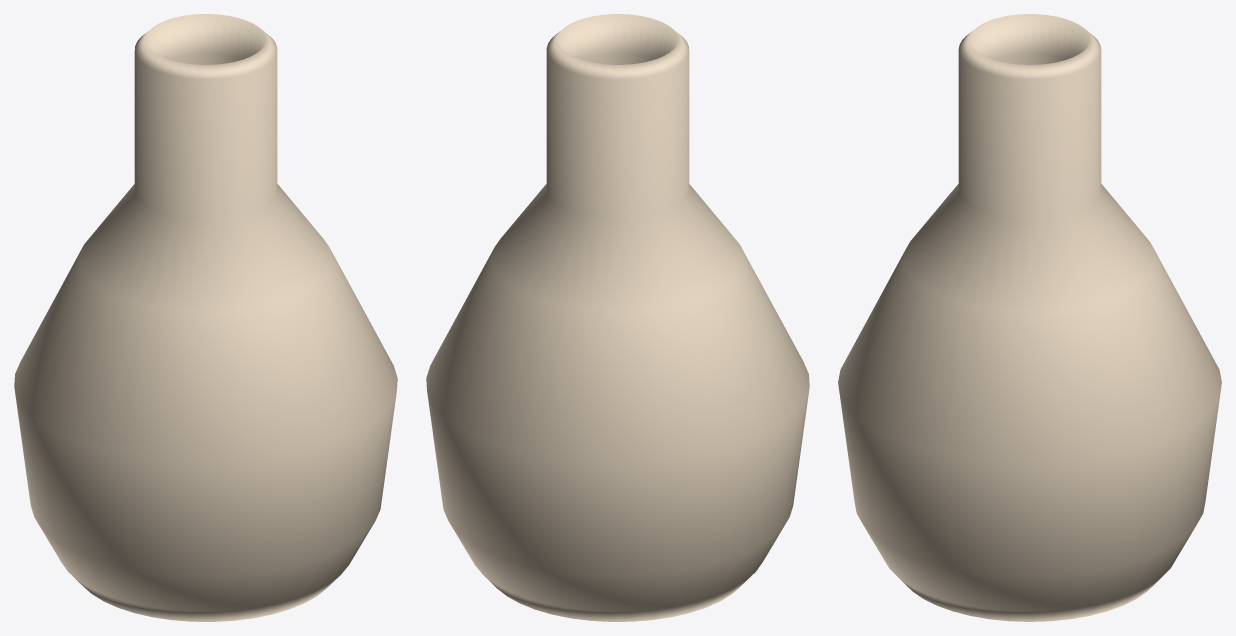
The model's file is prop-vase.glb.
3 renders of one model, left to right at view 1: azimuth 30°, elevation 25°; view 2: azimuth 150°, elevation 25°; view 3: azimuth 270°, elevation 25°, orthographic.
Visible parts, largest first — view 1: Wheel thrown hollow vase; view 2: Wheel thrown hollow vase; view 3: Wheel thrown hollow vase.
Boxes of the visible parts, x1=… form: Wheel thrown hollow vase: x1=14, y1=14, x2=397, y2=621; Wheel thrown hollow vase: x1=426, y1=14, x2=809, y2=621; Wheel thrown hollow vase: x1=838, y1=14, x2=1221, y2=621.
Bounding box in the file's own units: 0.7 × 1.06 × 0.7.
